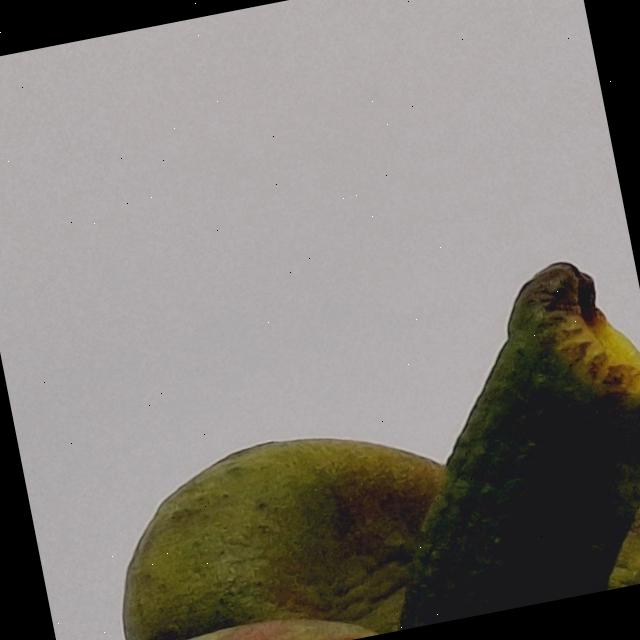mangosteen: (5, 254, 640, 640)
